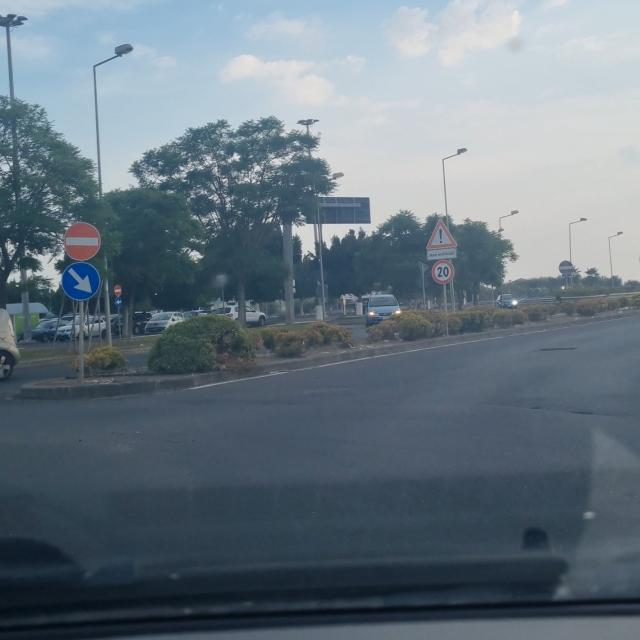forb_speed_over_20: (431, 259, 454, 285)
